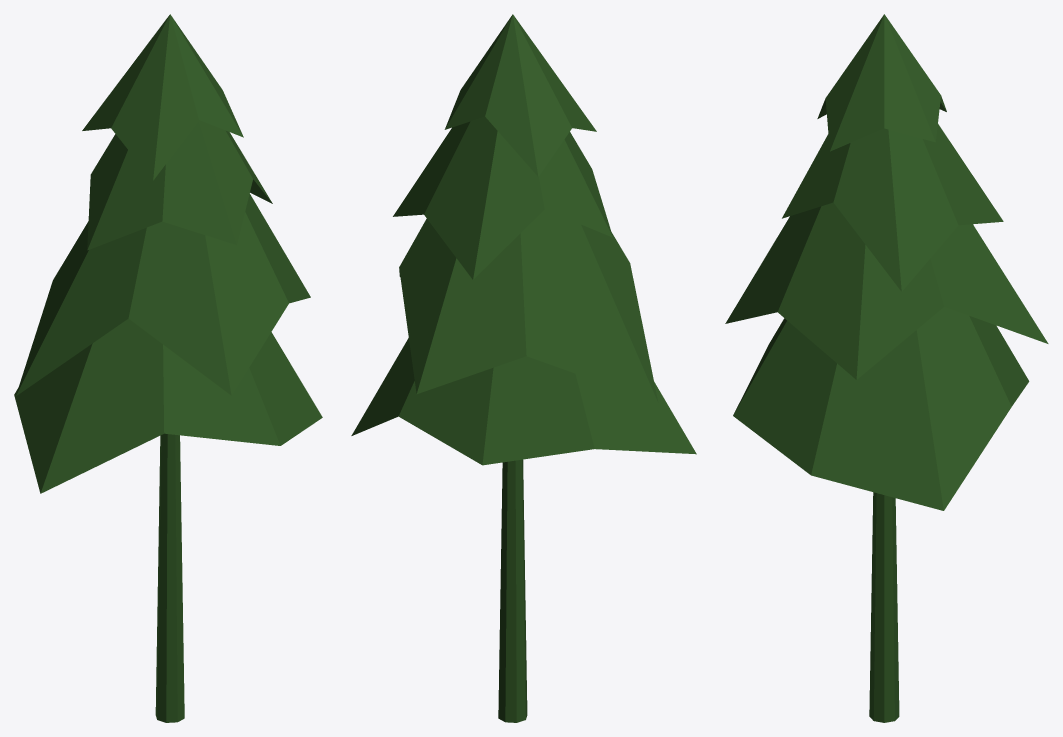
The model's file is Saplin3.FBX.
3 renders of one model, left to right at view 1: azimuth 30°, elevation 25°; view 2: azimuth 150°, elevation 25°; view 3: azimuth 270°, elevation 25°, orthographic.
Parts seen in each view (by area): view 1: Saplin3; view 2: Saplin3; view 3: Saplin3.
Boxes of the visible parts, <box> form: Saplin3: <box>14,14,322,722</box>; Saplin3: <box>351,14,696,722</box>; Saplin3: <box>725,14,1048,722</box>.
Size of what is drawn, in the model's own units: 285 by 276 by 662.
